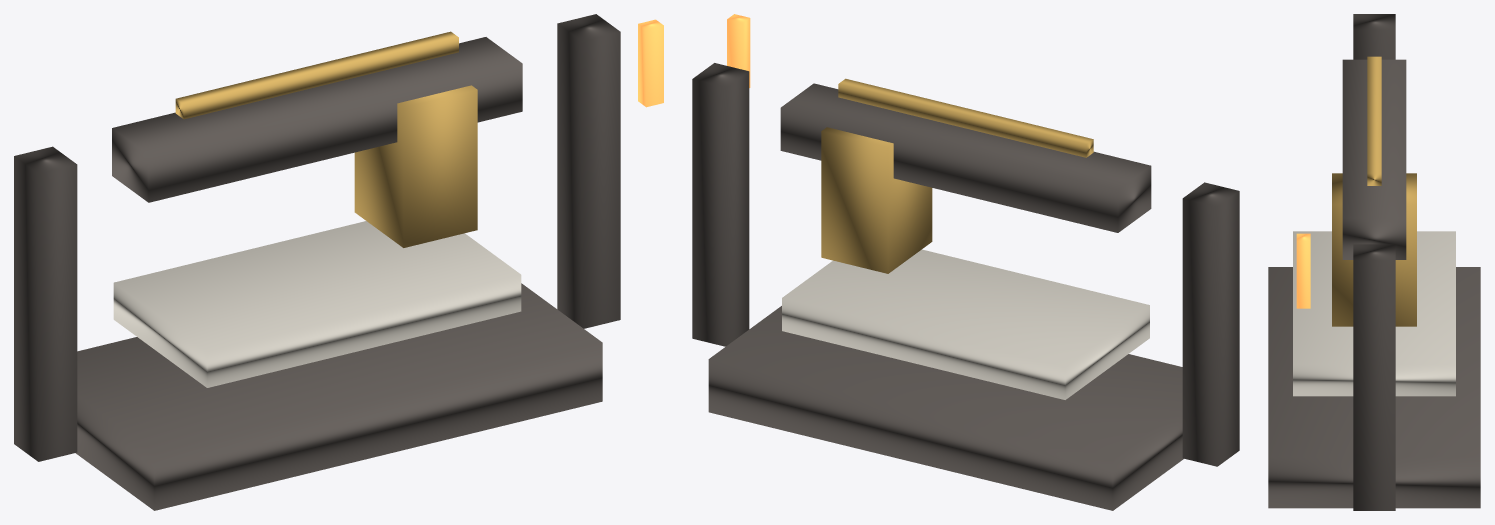
Rendered from solar-yard-printer-spindle-lod1.glb.
3 views of the same model, side by side, from view 1: azimuth 30°, elevation 25°; view 2: azimuth 150°, elevation 25°; view 3: azimuth 270°, elevation 25° (orthographic). The views are drawn at different scales.
Visible parts, largest first — view 1: solar-yard-printer-spindle-base, solar-yard-printer-spindle-bed, solar-yard-printer-spindle-gantry, solar-yard-printer-spindle-column-left, solar-yard-printer-spindle-column-right, solar-yard-printer-spindle-head, solar-yard-printer-spindle-guide, solar-yard-printer-spindle-status; view 2: solar-yard-printer-spindle-base, solar-yard-printer-spindle-bed, solar-yard-printer-spindle-gantry, solar-yard-printer-spindle-column-left, solar-yard-printer-spindle-column-right, solar-yard-printer-spindle-head, solar-yard-printer-spindle-guide, solar-yard-printer-spindle-status; view 3: solar-yard-printer-spindle-base, solar-yard-printer-spindle-bed, solar-yard-printer-spindle-column-right, solar-yard-printer-spindle-gantry, solar-yard-printer-spindle-head, solar-yard-printer-spindle-guide, solar-yard-printer-spindle-column-left, solar-yard-printer-spindle-status.
Boxes of the visible parts, x1,y1,x2,y2 form: solar-yard-printer-spindle-base: [75, 283, 602, 510]; solar-yard-printer-spindle-bed: [113, 221, 521, 387]; solar-yard-printer-spindle-gantry: [112, 37, 522, 202]; solar-yard-printer-spindle-column-left: [14, 146, 77, 461]; solar-yard-printer-spindle-column-right: [557, 14, 620, 328]; solar-yard-printer-spindle-head: [354, 85, 477, 247]; solar-yard-printer-spindle-guide: [175, 31, 458, 119]; solar-yard-printer-spindle-status: [638, 19, 663, 107]; solar-yard-printer-spindle-base: [708, 306, 1183, 510]; solar-yard-printer-spindle-bed: [782, 249, 1149, 399]; solar-yard-printer-spindle-gantry: [780, 83, 1151, 232]; solar-yard-printer-spindle-column-left: [1182, 182, 1239, 466]; solar-yard-printer-spindle-column-right: [692, 63, 749, 346]; solar-yard-printer-spindle-head: [821, 127, 932, 273]; solar-yard-printer-spindle-guide: [838, 78, 1093, 157]; solar-yard-printer-spindle-status: [727, 14, 750, 87]; solar-yard-printer-spindle-base: [1268, 267, 1480, 508]; solar-yard-printer-spindle-bed: [1293, 231, 1455, 396]; solar-yard-printer-spindle-column-right: [1353, 244, 1395, 510]; solar-yard-printer-spindle-gantry: [1342, 59, 1406, 259]; solar-yard-printer-spindle-head: [1332, 173, 1416, 326]; solar-yard-printer-spindle-guide: [1367, 56, 1381, 185]; solar-yard-printer-spindle-column-left: [1353, 14, 1395, 59]; solar-yard-printer-spindle-status: [1296, 233, 1310, 308].
Size of the model in its own units: 3.36 by 1.87 by 1.2.
